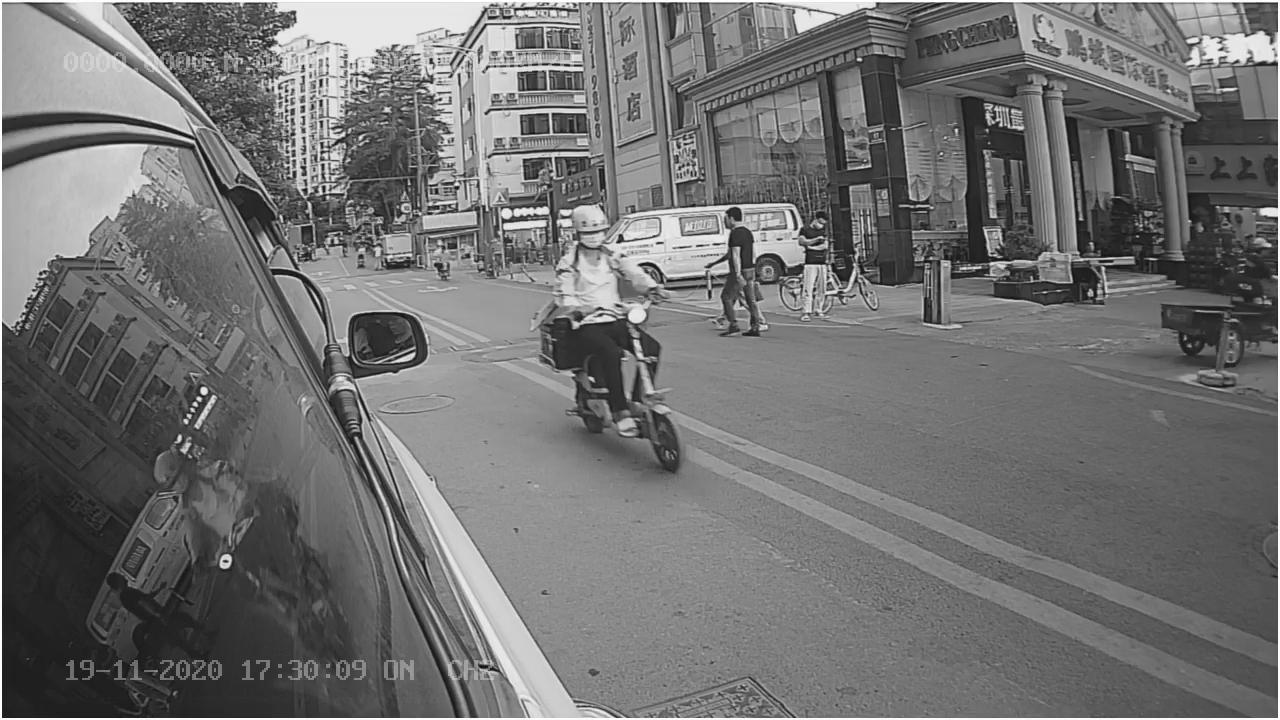person: (542, 201, 645, 303)
